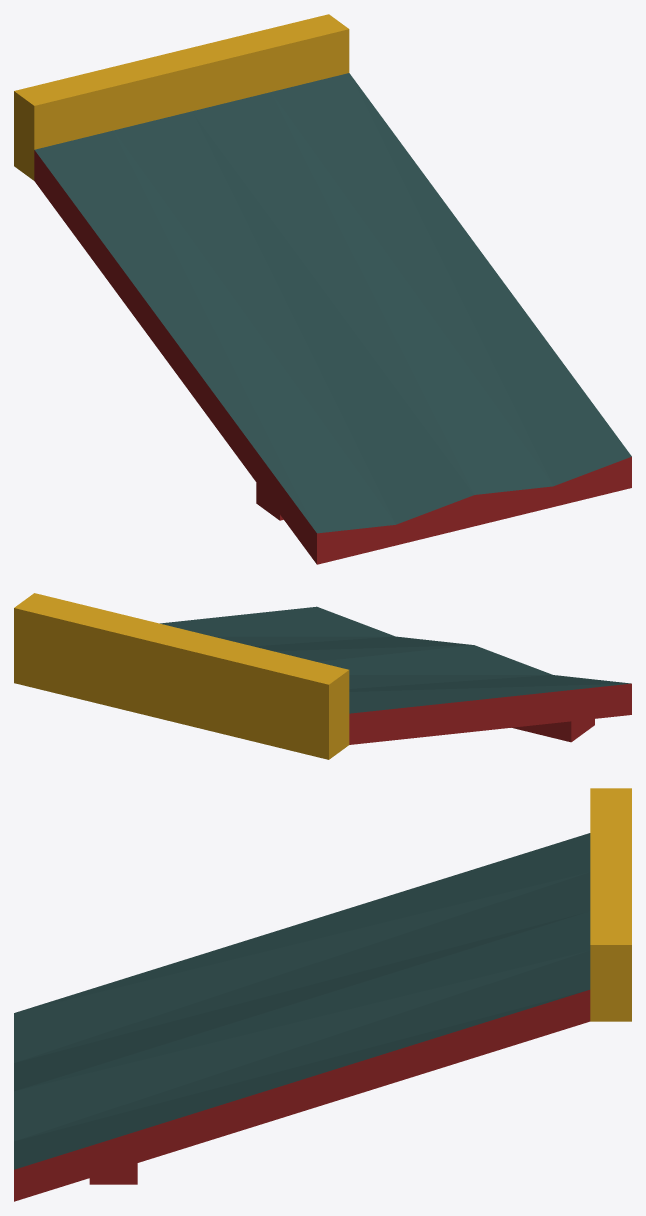
File: Asian_Prop_Building_Modular_Roof_Edge_03.FBX
The picture shows the model from 3 angles, top to bottom: view 1: azimuth 30°, elevation 25°; view 2: azimuth 150°, elevation 25°; view 3: azimuth 270°, elevation 25°; orthographic projection.
Visible parts, largest first — view 1: Asian_Prop_Building_Modular_Roof_Edge_03; view 2: Asian_Prop_Building_Modular_Roof_Edge_03; view 3: Asian_Prop_Building_Modular_Roof_Edge_03.
Part boxes in pixels (x1,y1,x2,y2): Asian_Prop_Building_Modular_Roof_Edge_03: (14,14,631,564); Asian_Prop_Building_Modular_Roof_Edge_03: (14,593,631,759); Asian_Prop_Building_Modular_Roof_Edge_03: (14,788,631,1201).
Bounding box in the file's own units: 3875 × 2963 × 6459.
